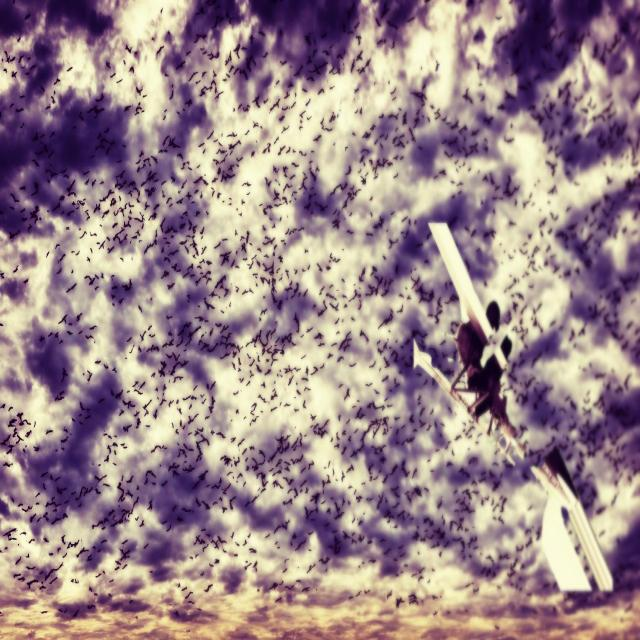airplane: (412, 220, 613, 594)
